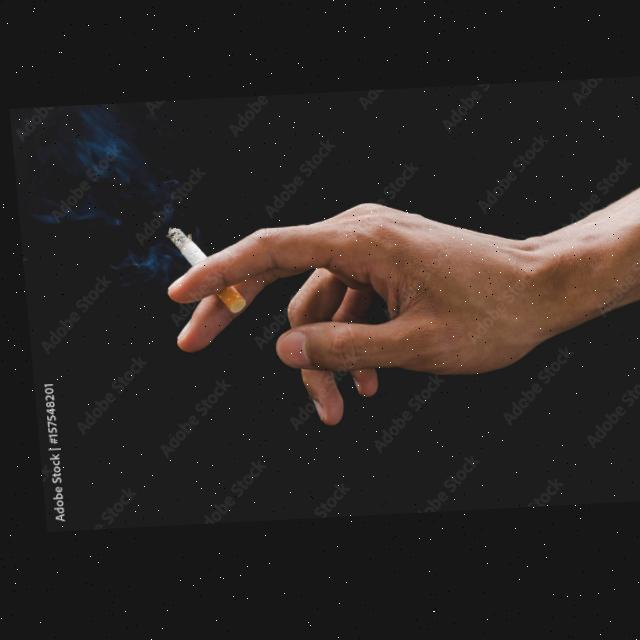cigarette: (160, 226, 241, 318)
